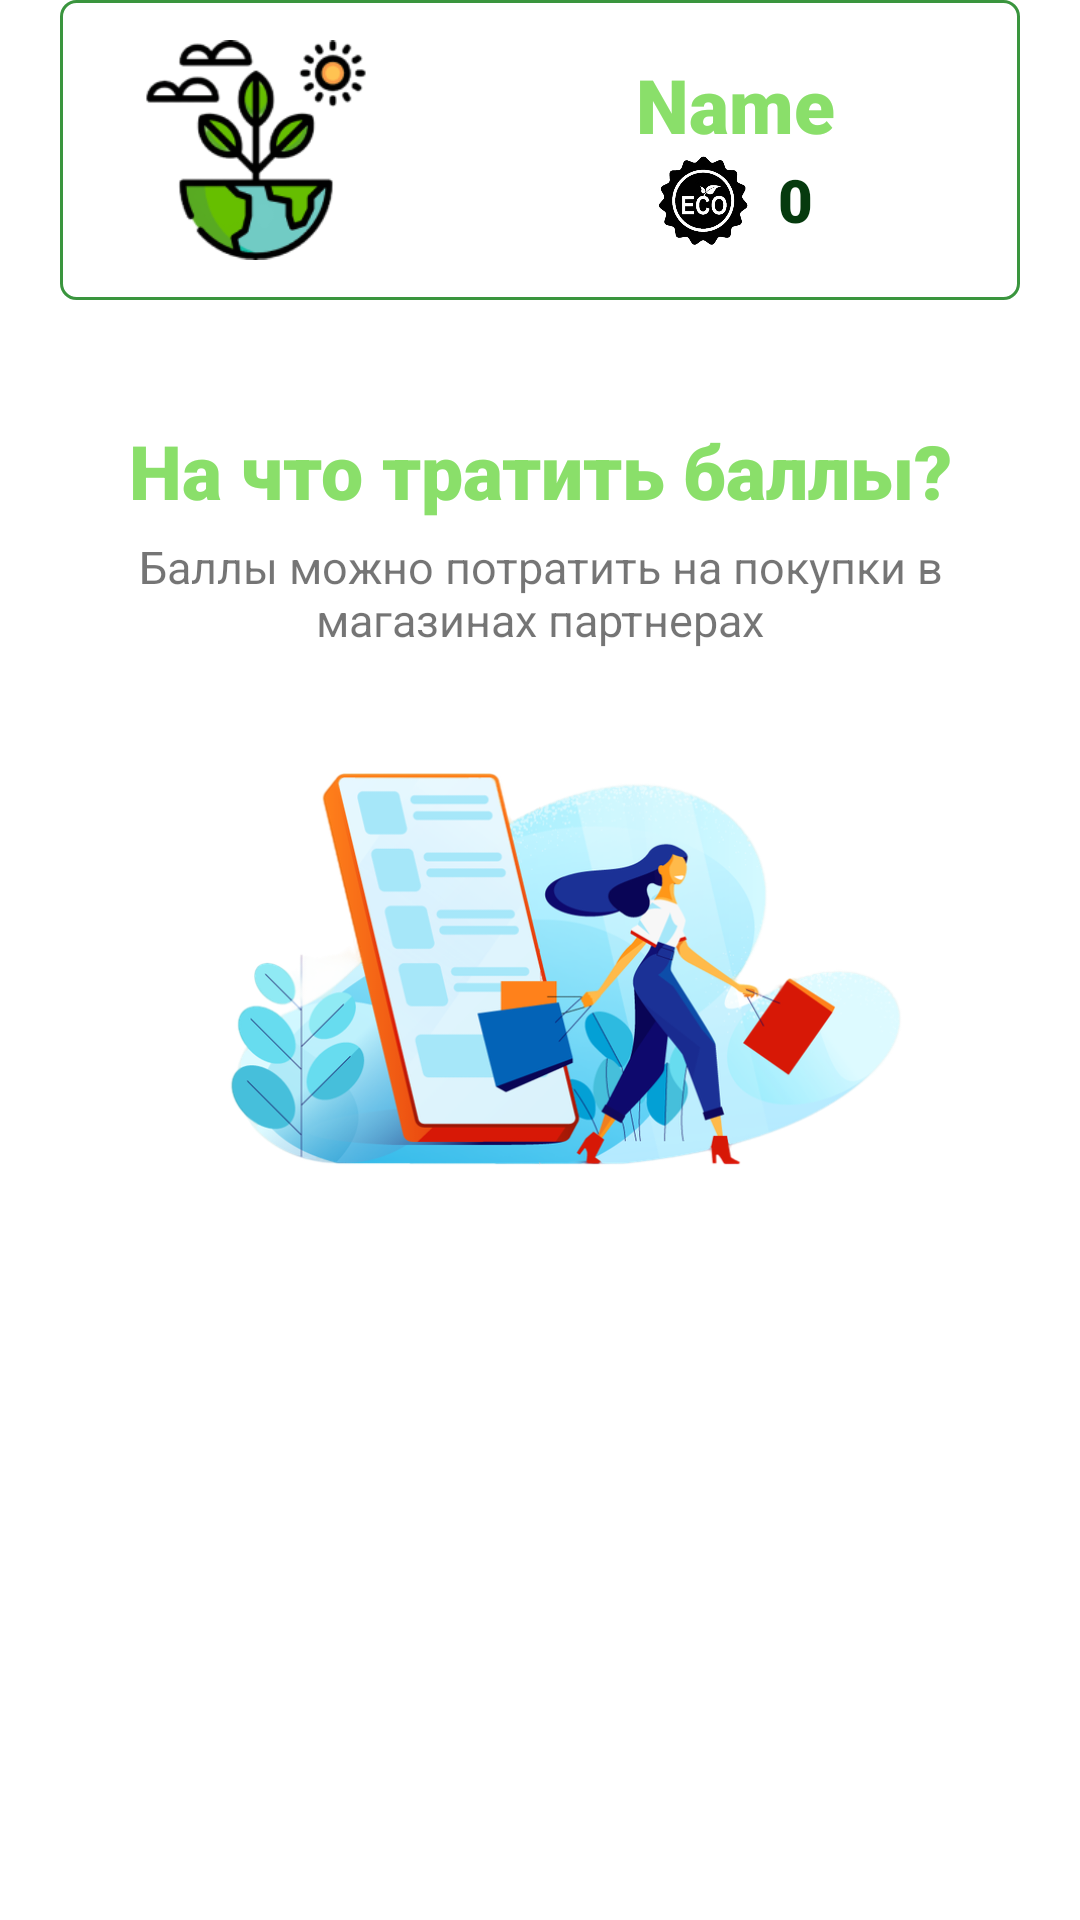

Icons on this 1080w x 1920h Android screen, each with its box as region(x1, y1, x2, y2):
planet: region(146, 40, 366, 260)
